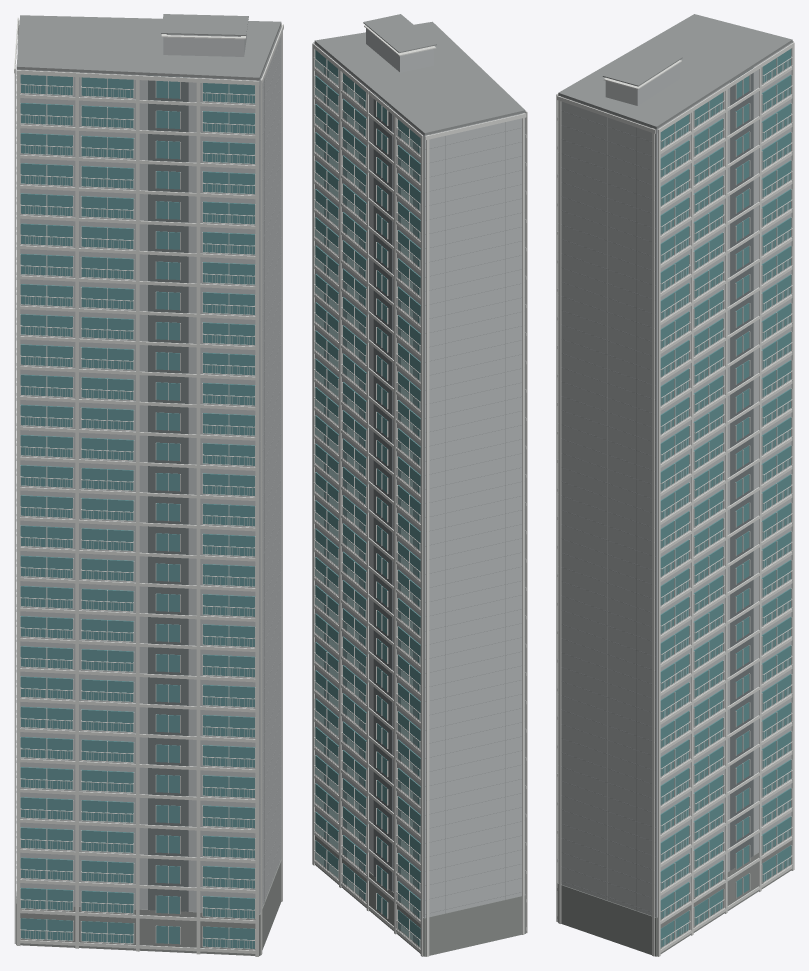
Rendered from bespoke-jamsil-ricenz-206.glb.
The picture shows the model from 3 angles, left to right: view 1: azimuth 30°, elevation 25°; view 2: azimuth 150°, elevation 25°; view 3: azimuth 270°, elevation 25°; orthographic projection. The views are drawn at different scales.
Visible parts, largest first — view 1: Ricenz206_editable_Ricenz206_turquoise_balcony_glazing, Ricenz206_editable_Ricenz206_light_grey_solid_wall, Ricenz206_white_exact_chunk_0, Ricenz206_white_exact_chunk_1, Ricenz206_editable_Ricenz206_narrow_charcoal_service_strips, Ricenz206_editable_Ricenz206_modest_grey_flat_roof_caps, Ricenz206_editable_Ricenz206_muted_ground_wall, Ricenz206_white_exact_chunk_2; view 2: Ricenz206_editable_Ricenz206_light_grey_solid_wall, Ricenz206_editable_Ricenz206_turquoise_balcony_glazing, Ricenz206_white_exact_chunk_2, Ricenz206_white_exact_chunk_1, Ricenz206_editable_Ricenz206_modest_grey_flat_roof_caps, Ricenz206_editable_Ricenz206_narrow_charcoal_service_strips, Ricenz206_editable_Ricenz206_muted_ground_wall; view 3: Ricenz206_editable_Ricenz206_light_grey_solid_wall, Ricenz206_editable_Ricenz206_turquoise_balcony_glazing, Ricenz206_white_exact_chunk_2, Ricenz206_white_exact_chunk_1, Ricenz206_editable_Ricenz206_modest_grey_flat_roof_caps, Ricenz206_editable_Ricenz206_narrow_charcoal_service_strips, Ricenz206_editable_Ricenz206_muted_ground_wall.
Part boxes in pixels (x1,y1,x2,y2): Ricenz206_editable_Ricenz206_turquoise_balcony_glazing: (20,74,255,948); Ricenz206_editable_Ricenz206_light_grey_solid_wall: (16,25,281,914); Ricenz206_white_exact_chunk_0: (20,75,255,953); Ricenz206_white_exact_chunk_1: (16,24,283,956); Ricenz206_editable_Ricenz206_narrow_charcoal_service_strips: (148,75,188,911); Ricenz206_editable_Ricenz206_modest_grey_flat_roof_caps: (16,14,281,909); Ricenz206_editable_Ricenz206_muted_ground_wall: (16,859,281,955); Ricenz206_white_exact_chunk_2: (14,17,281,943); Ricenz206_editable_Ricenz206_light_grey_solid_wall: (314,28,525,917); Ricenz206_editable_Ricenz206_turquoise_balcony_glazing: (315,50,420,946); Ricenz206_white_exact_chunk_2: (312,25,526,956); Ricenz206_white_exact_chunk_1: (313,28,527,933); Ricenz206_editable_Ricenz206_modest_grey_flat_roof_caps: (314,14,525,914); Ricenz206_editable_Ricenz206_narrow_charcoal_service_strips: (373,93,392,890); Ricenz206_editable_Ricenz206_muted_ground_wall: (315,831,525,956); Ricenz206_editable_Ricenz206_light_grey_solid_wall: (558,42,792,917); Ricenz206_editable_Ricenz206_turquoise_balcony_glazing: (660,49,791,947); Ricenz206_white_exact_chunk_2: (603,41,794,956); Ricenz206_white_exact_chunk_1: (556,93,725,956); Ricenz206_editable_Ricenz206_modest_grey_flat_roof_caps: (558,14,792,913); Ricenz206_editable_Ricenz206_narrow_charcoal_service_strips: (730,67,753,870); Ricenz206_editable_Ricenz206_muted_ground_wall: (557,836,791,956).
Size of the model in its own units: 25.48 by 88.33 by 22.4.
